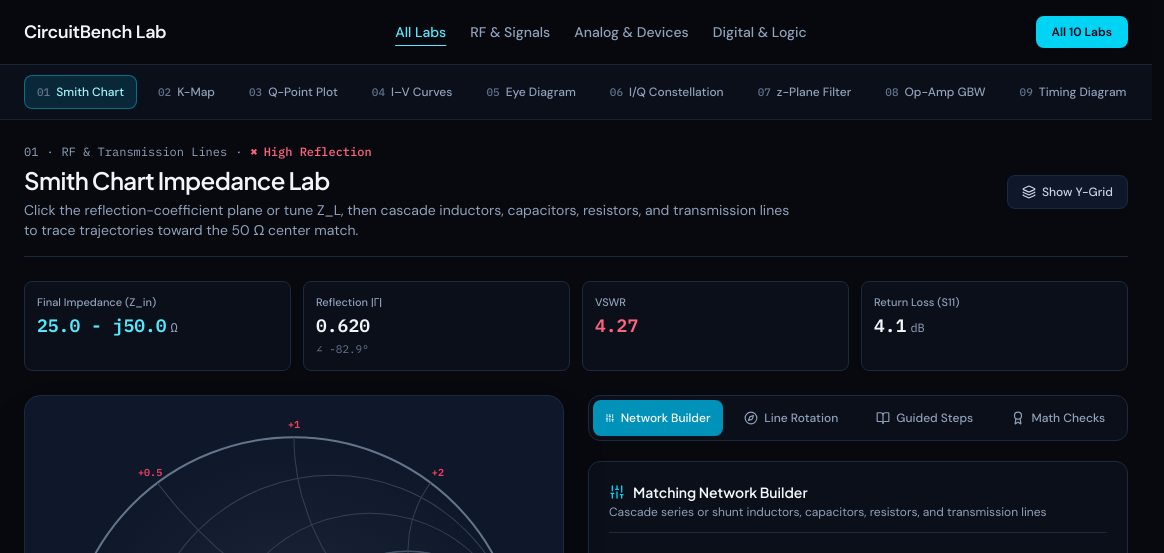
Test: CircuitBench 10-Lab Integration Flows (React Testing Library) › opens the 10-lab directory catalog and filters by category
Click the button "All 10 Labs": click(1082, 32) [1036, 16, 1128, 48]
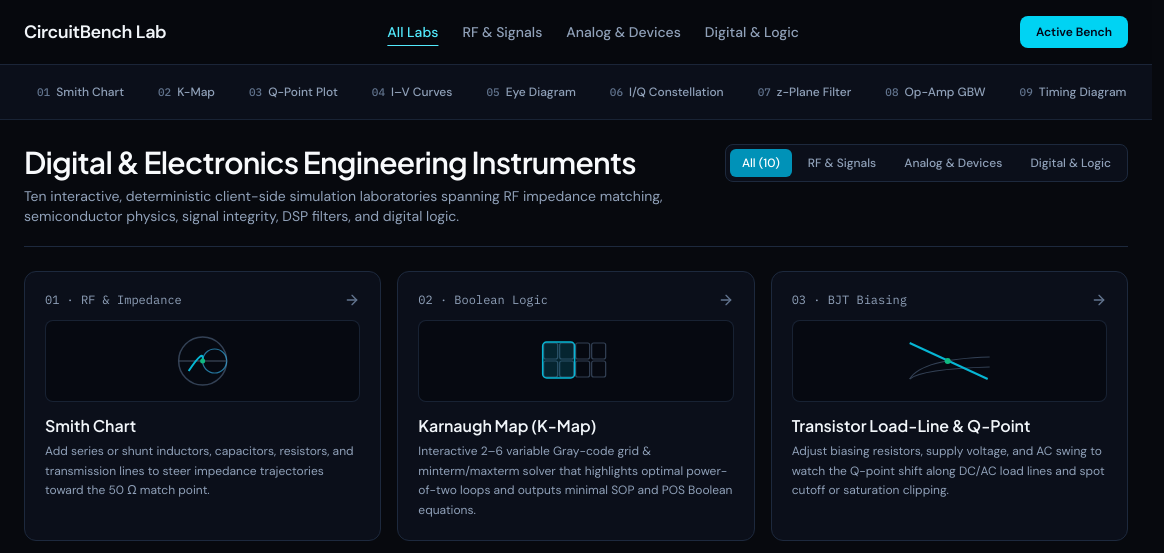
Expected: the heading "Digital & Electronics Engineering Instruments" is shown, [24, 144, 696, 180]
Click the 2nd button "Digital & Logic": click(1071, 163) [1018, 149, 1123, 177]
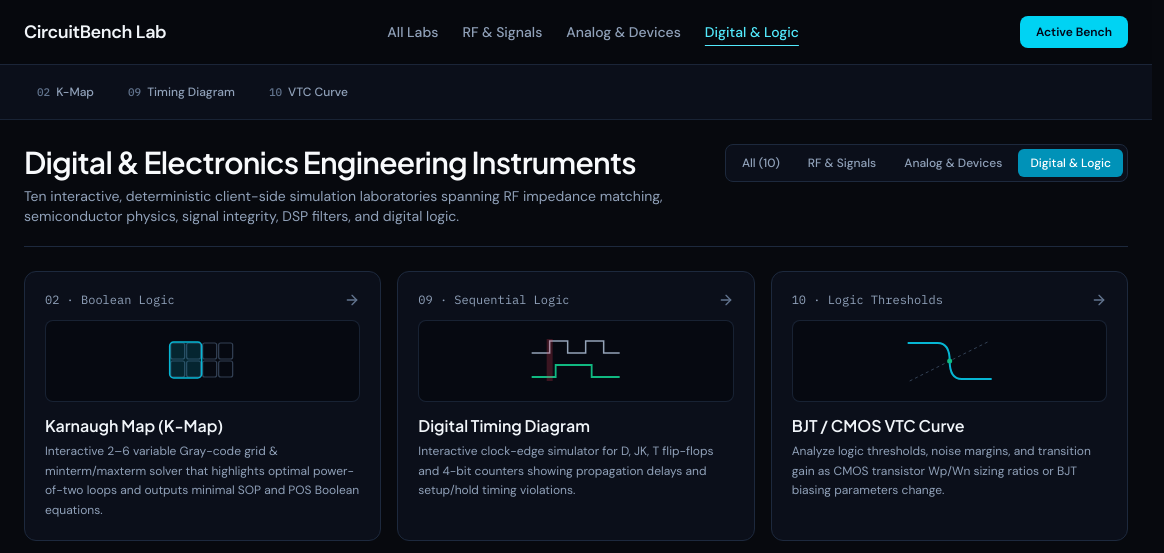
Expected: the heading "Karnaugh Map (K-Map)" is shown, [45, 415, 223, 436]
Expected: the button "Eye Diagram" is gone
